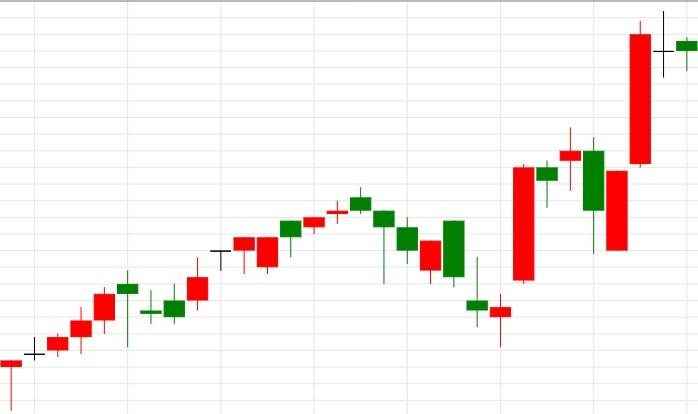three_black_crows_fall: (138, 187, 417, 324)
